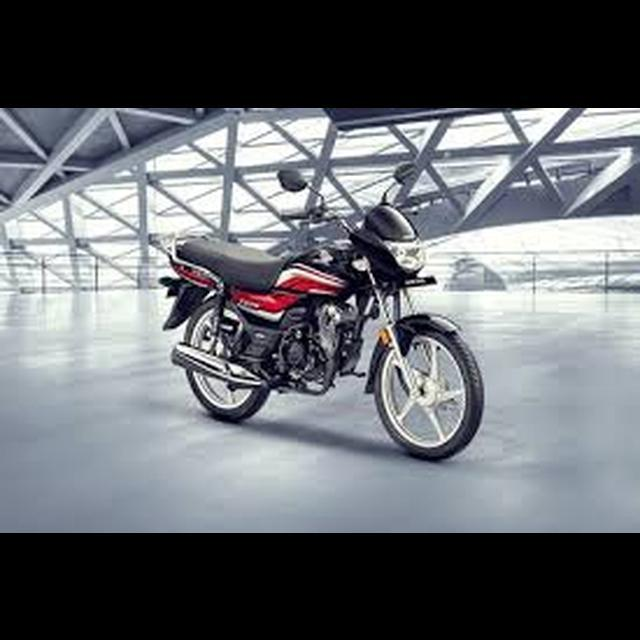motorcycle: (155, 155, 492, 465)
